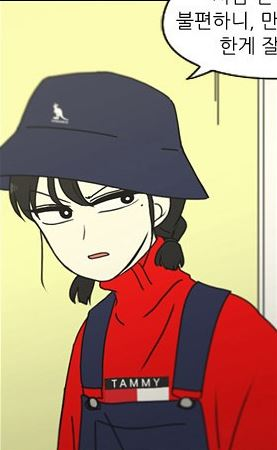hat: (1, 72, 209, 201)
